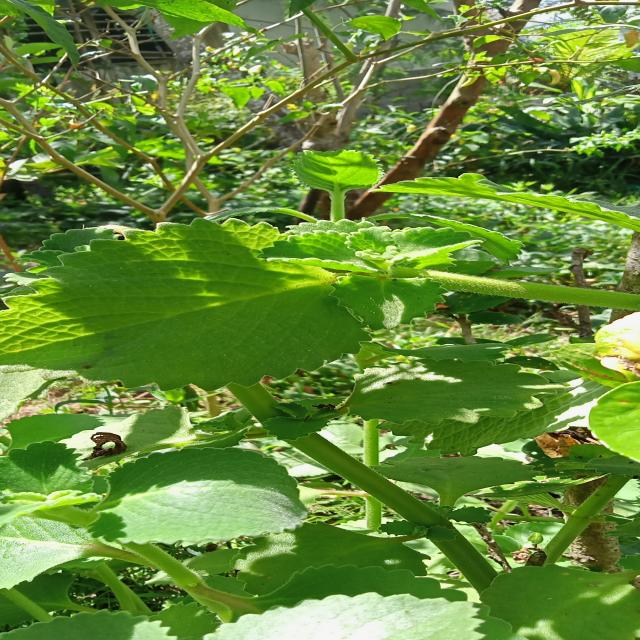Oregano: (8, 215, 425, 391), (83, 445, 339, 543), (182, 578, 541, 640)
